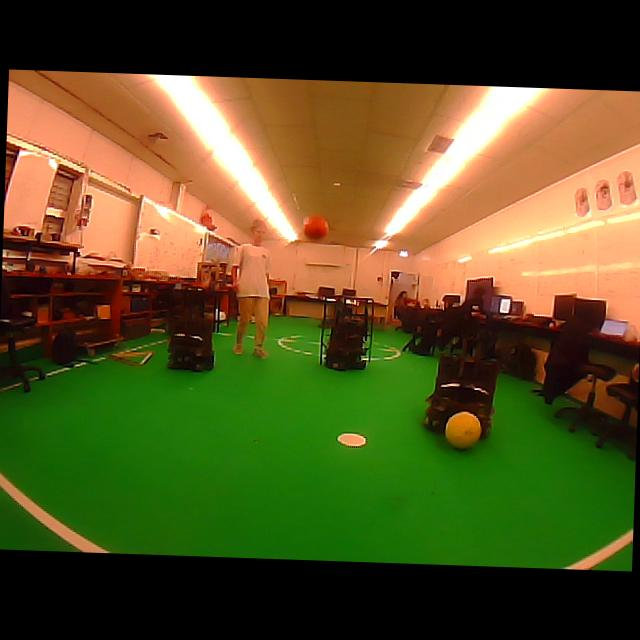ball: (445, 410, 481, 448), (303, 215, 328, 239)
robot: (423, 336, 499, 447), (167, 287, 215, 370), (320, 296, 373, 369)
